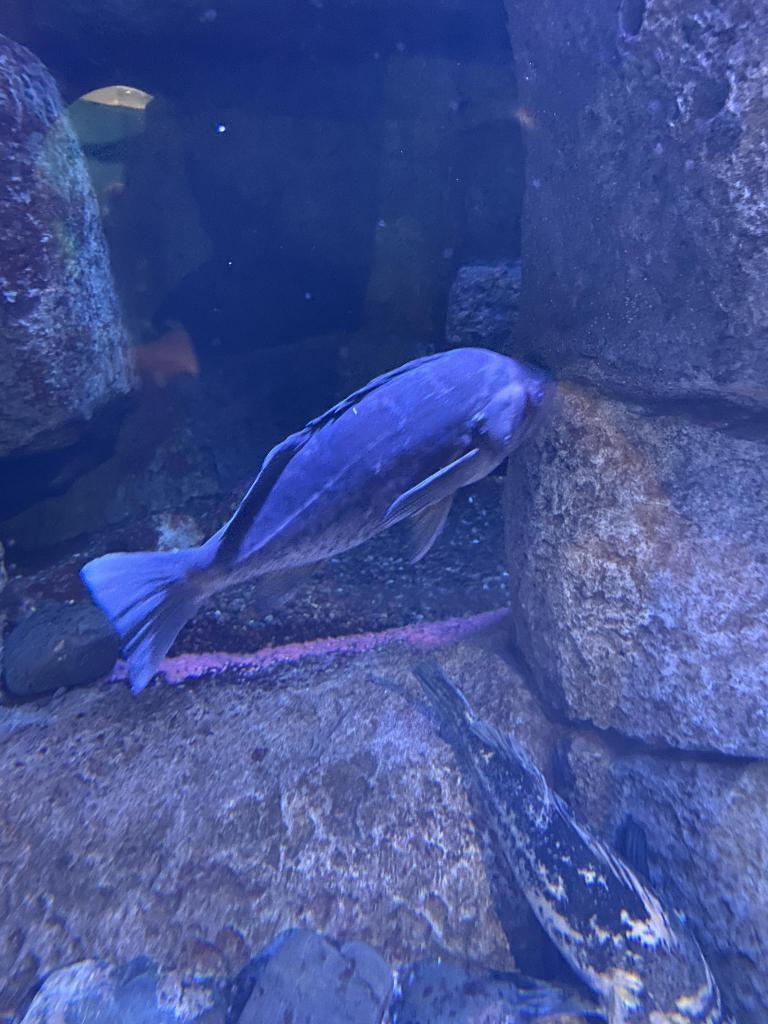fish: (81, 347, 557, 697), (414, 657, 722, 1023)
